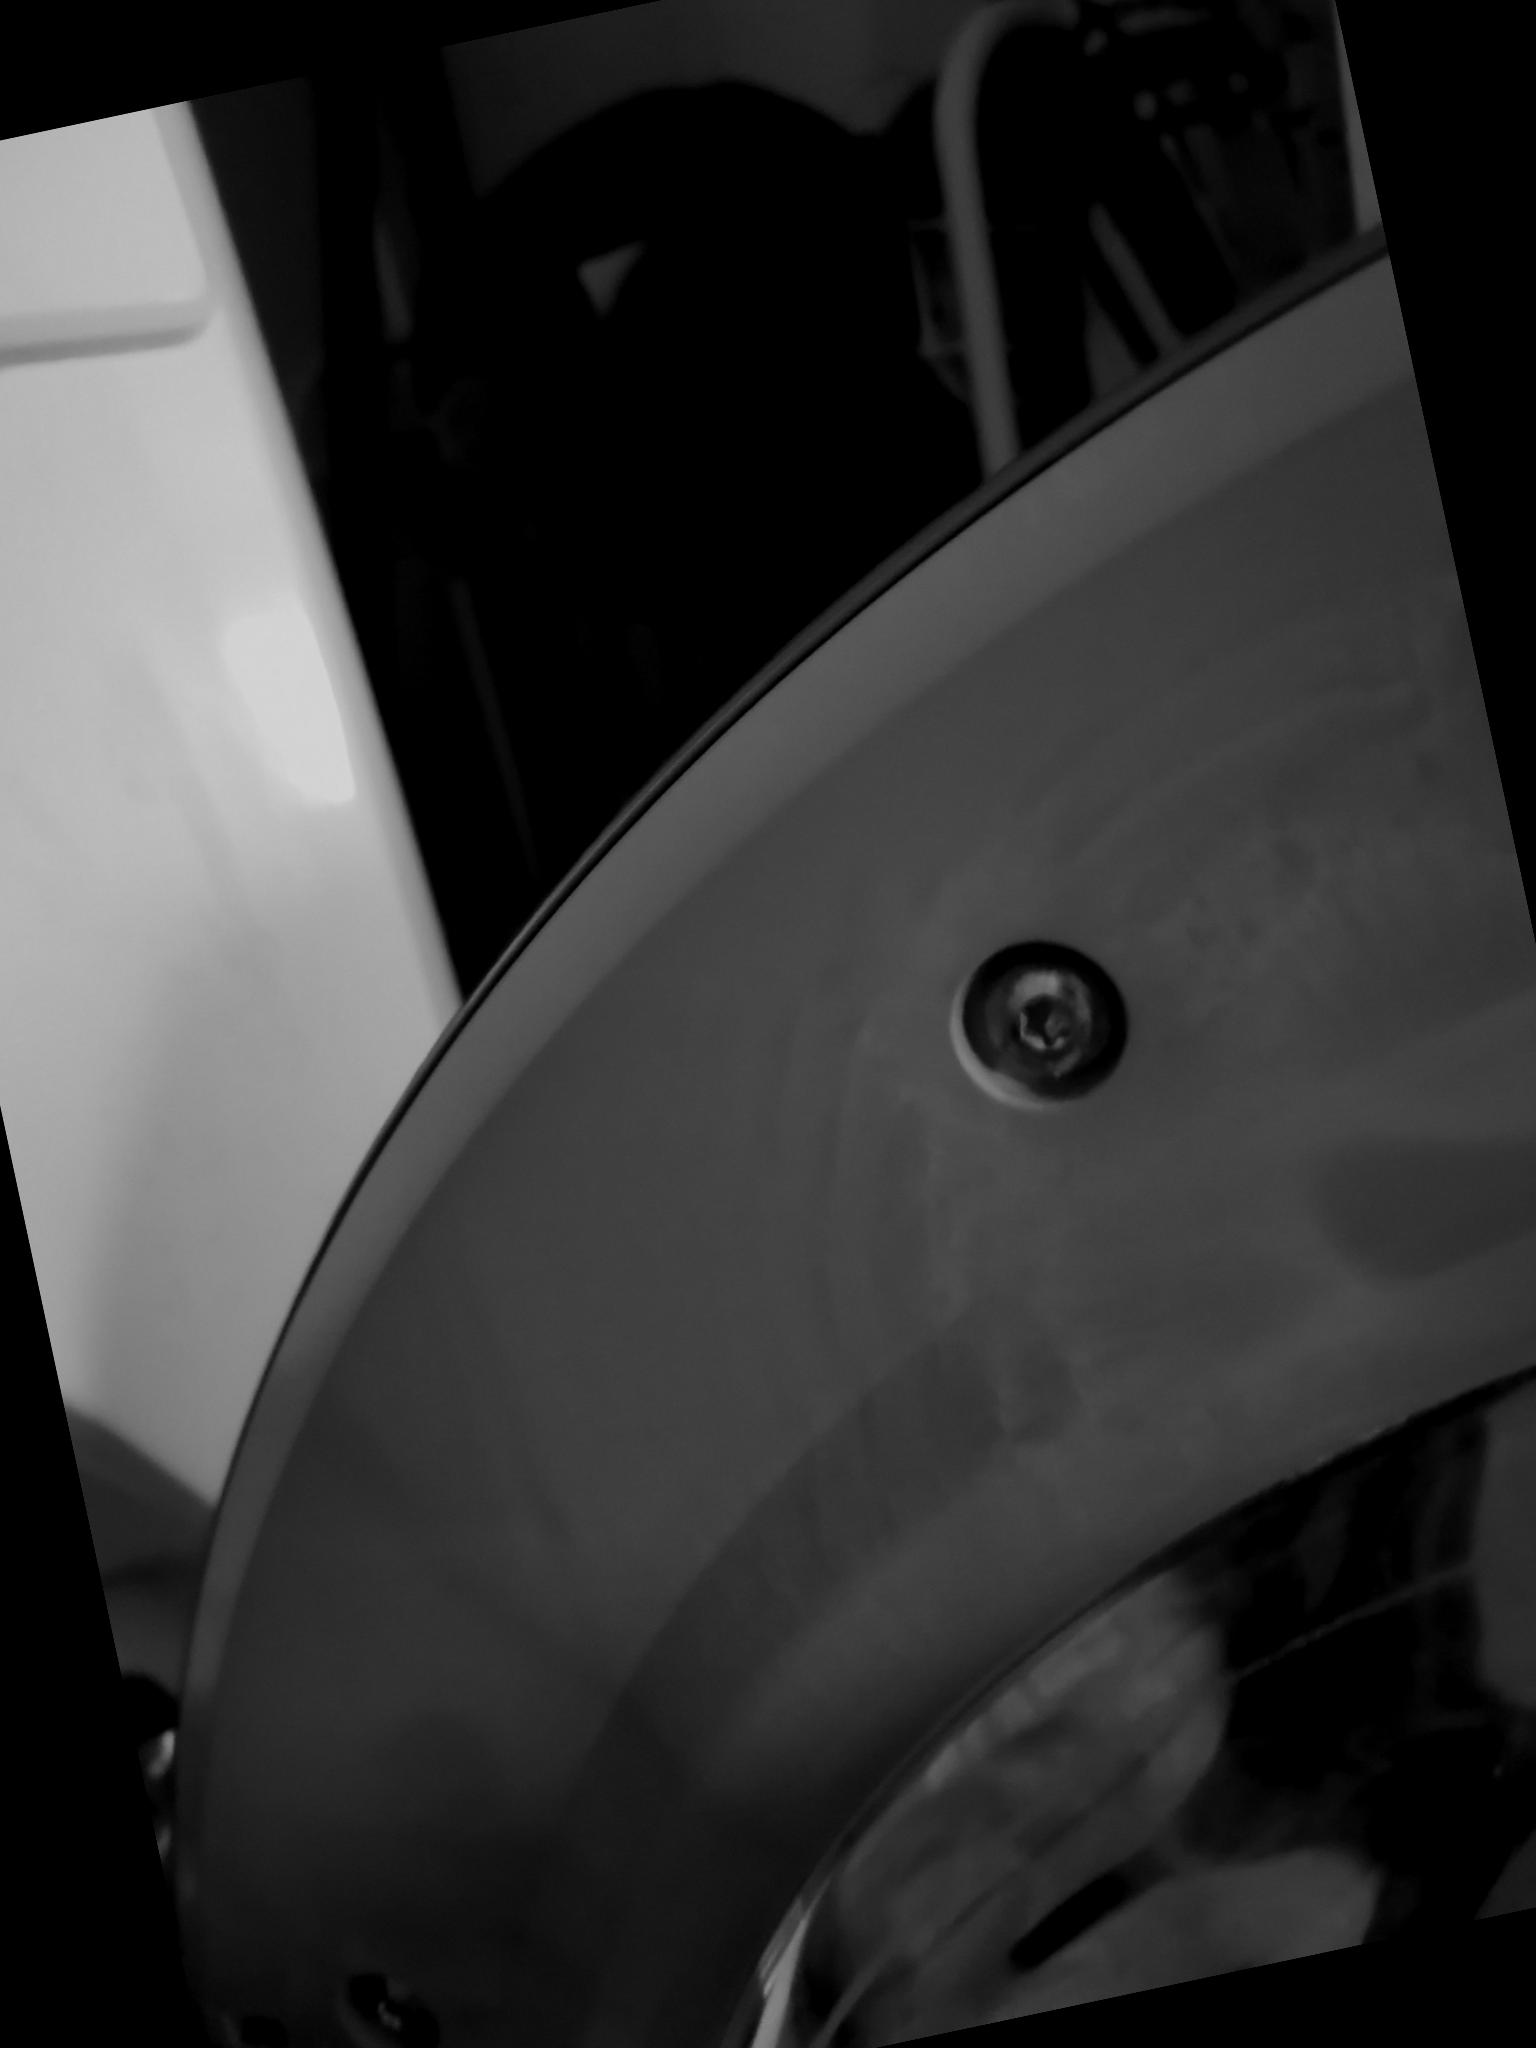torx: (956, 931, 1148, 1113)
